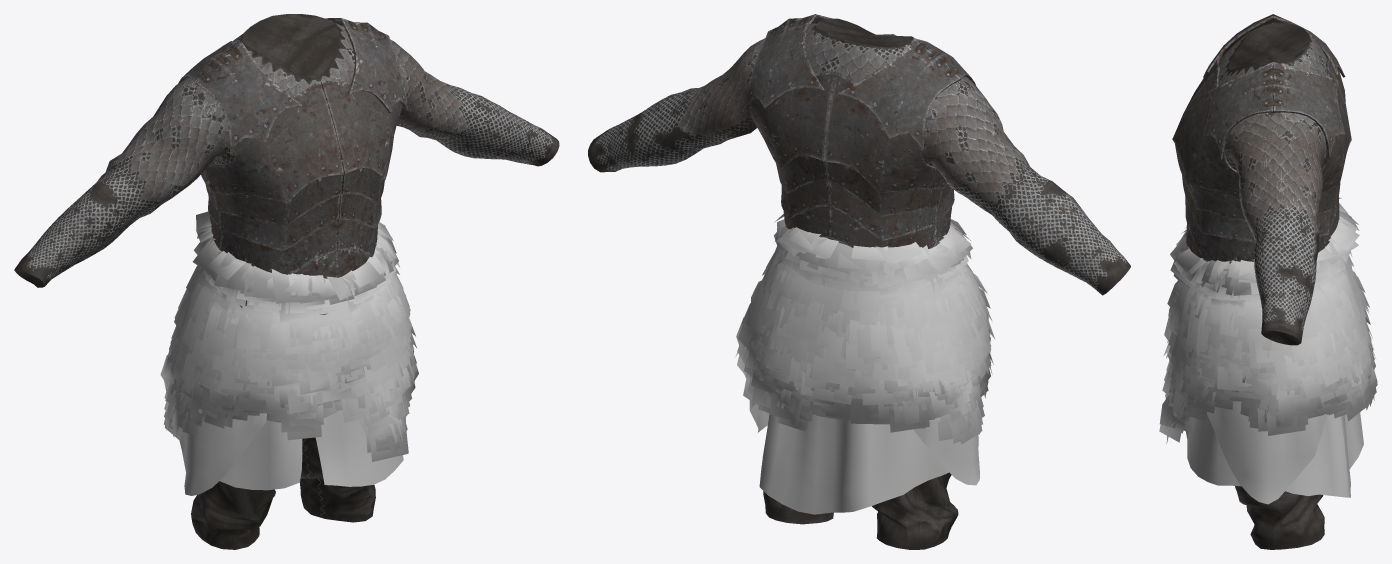
Rendered from sk_gb_uruk_chest_heavy_e.fbx.
3 renders of one model, left to right at view 1: azimuth 30°, elevation 25°; view 2: azimuth 150°, elevation 25°; view 3: azimuth 270°, elevation 25°, orthographic. The views are drawn at different scales.
Parts seen in each view (by area): view 1: sk_gb_uruk_chest_heavy_e.skirt.2, sk_gb_uruk_chest_heavy_e.base.0, sk_gb_uruk_chest_heavy_e.base.1, sk_gb_uruk_chest_heavy_e.skirt.1; view 2: sk_gb_uruk_chest_heavy_e.skirt.2, sk_gb_uruk_chest_heavy_e.base.0, sk_gb_uruk_chest_heavy_e.base.1, sk_gb_uruk_chest_heavy_e.skirt.1; view 3: sk_gb_uruk_chest_heavy_e.skirt.2, sk_gb_uruk_chest_heavy_e.base.0, sk_gb_uruk_chest_heavy_e.base.1, sk_gb_uruk_chest_heavy_e.skirt.1.
Part boxes in pixels (box(x1,y1,x2,y2)): sk_gb_uruk_chest_heavy_e.skirt.2: box(160, 211, 418, 461); sk_gb_uruk_chest_heavy_e.base.0: box(14, 14, 559, 549); sk_gb_uruk_chest_heavy_e.base.1: box(178, 18, 408, 278); sk_gb_uruk_chest_heavy_e.skirt.1: box(179, 410, 406, 495); sk_gb_uruk_chest_heavy_e.skirt.2: box(735, 213, 995, 444); sk_gb_uruk_chest_heavy_e.base.0: box(588, 18, 1130, 549); sk_gb_uruk_chest_heavy_e.base.1: box(746, 14, 976, 248); sk_gb_uruk_chest_heavy_e.skirt.1: box(749, 400, 979, 514); sk_gb_uruk_chest_heavy_e.skirt.2: box(1159, 197, 1377, 444); sk_gb_uruk_chest_heavy_e.base.0: box(1218, 23, 1327, 549); sk_gb_uruk_chest_heavy_e.base.1: box(1172, 14, 1351, 263); sk_gb_uruk_chest_heavy_e.skirt.1: box(1185, 401, 1363, 504).
Bounding box in the file's own units: 1.35 × 0.4991 × 1.2.
